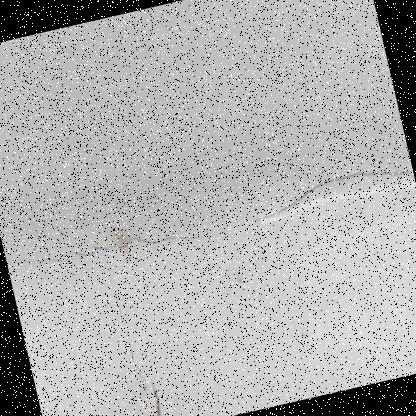Crack: (0, 77, 415, 415)
